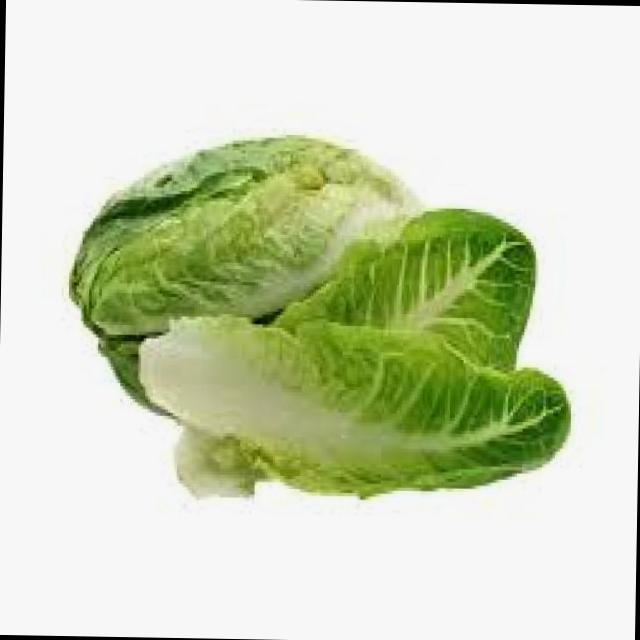Lettuce-Ready-to-Harvest: (139, 210, 570, 495), (70, 136, 411, 401)
